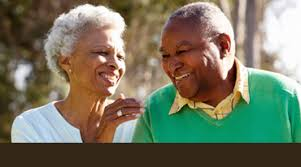person: (158, 1, 236, 99), (46, 4, 127, 96)
